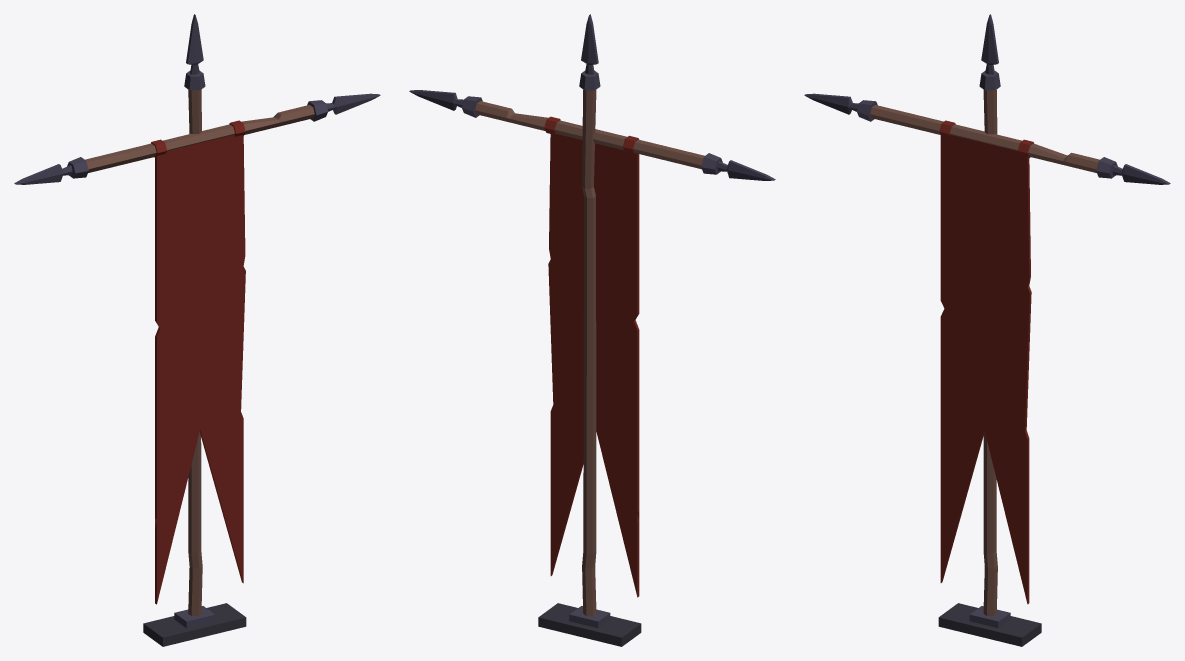
File: Banner.glb
3 views of the same model, side by side, from view 1: azimuth 30°, elevation 25°; view 2: azimuth 150°, elevation 25°; view 3: azimuth 330°, elevation 25° (orthographic).
Parts seen in each view (by area): view 1: Banner; view 2: Banner; view 3: Banner.
Part boxes in pixels (x1,y1,x2,y2): Banner: (14, 14, 380, 646); Banner: (409, 14, 775, 646); Banner: (804, 14, 1170, 646).
Size of the model in its own units: 1.18 by 1.9 by 0.1096.
